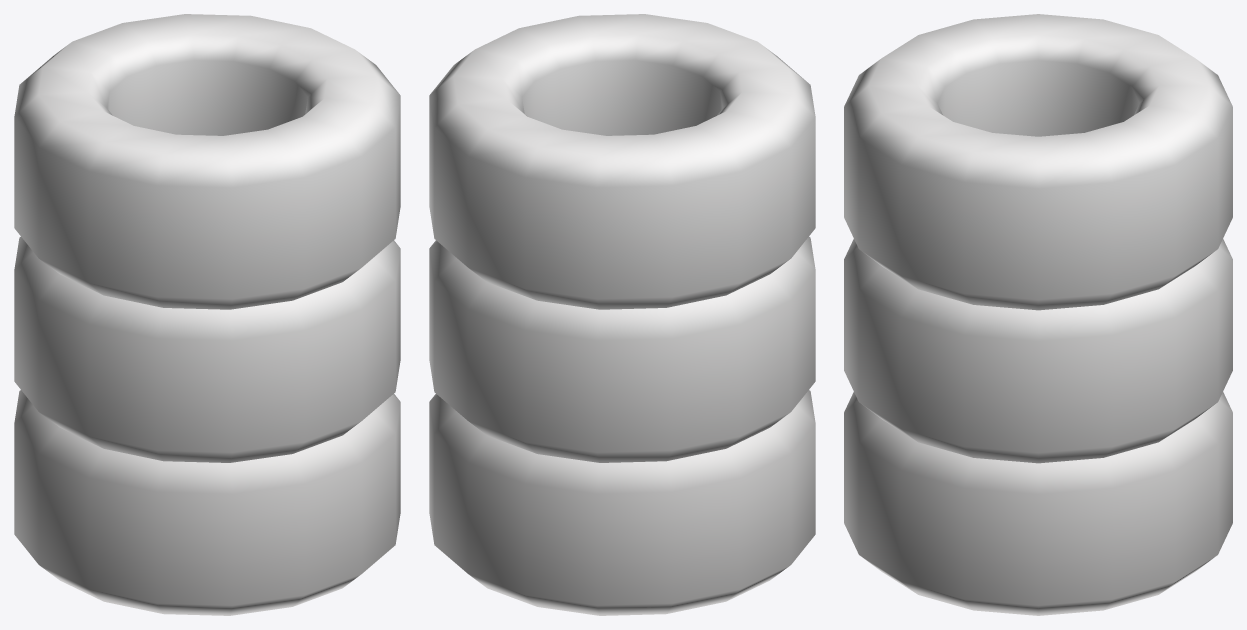
File: Barrier_Wheel_04.fbx
3 views of the same model, side by side, from view 1: azimuth 30°, elevation 25°; view 2: azimuth 150°, elevation 25°; view 3: azimuth 270°, elevation 25° (orthographic).
Parts seen in each view (by area): view 1: Barrier_Wheel_04; view 2: Barrier_Wheel_04; view 3: Barrier_Wheel_04.
Part boxes in pixels (x1=…): Barrier_Wheel_04: x1=14, y1=14, x2=400, y2=615; Barrier_Wheel_04: x1=429, y1=14, x2=815, y2=615; Barrier_Wheel_04: x1=844, y1=14, x2=1232, y2=615.
Bounding box in the file's own units: 100 × 100 × 130.
